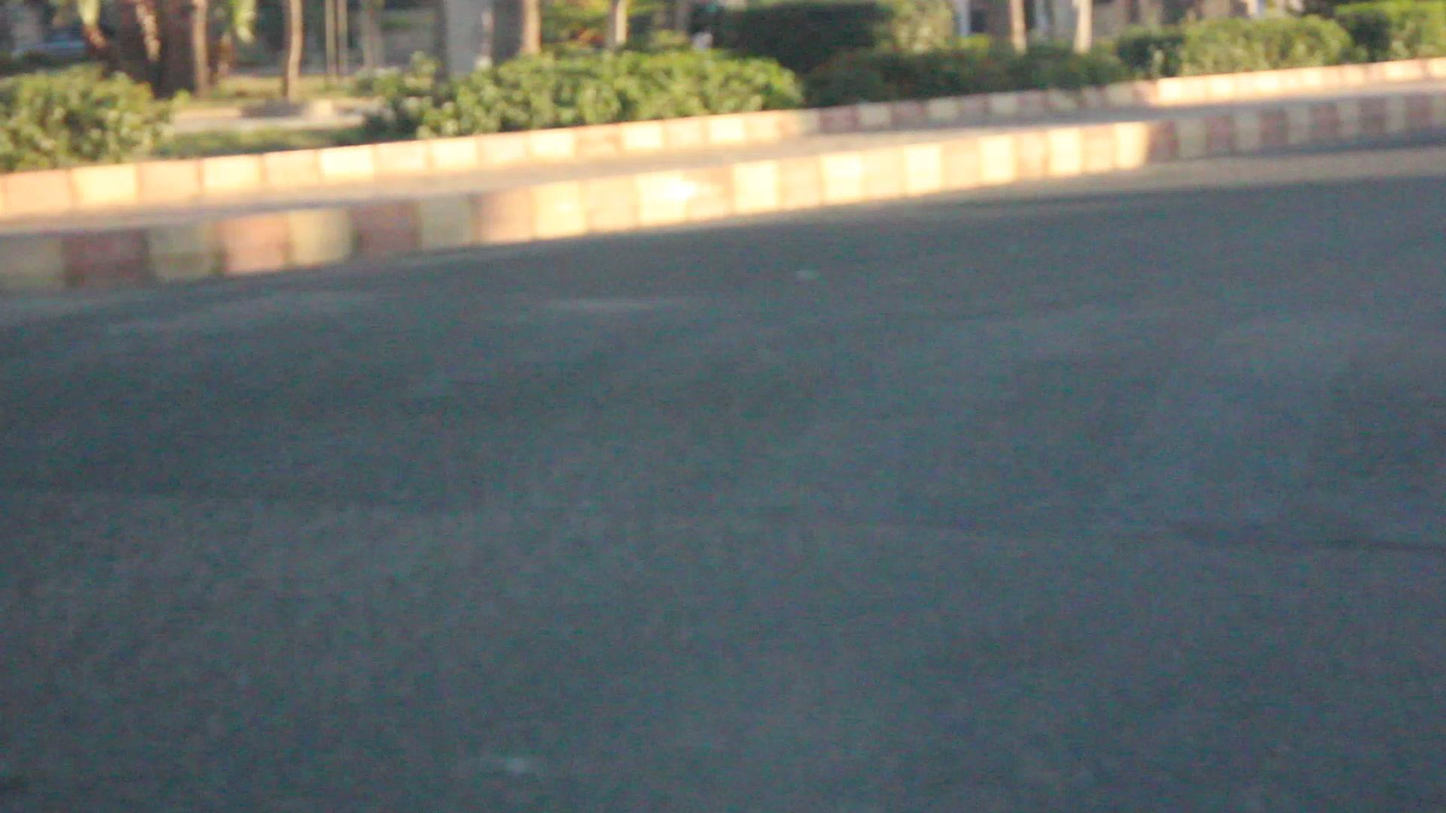Bump: (0, 271, 1445, 536)
